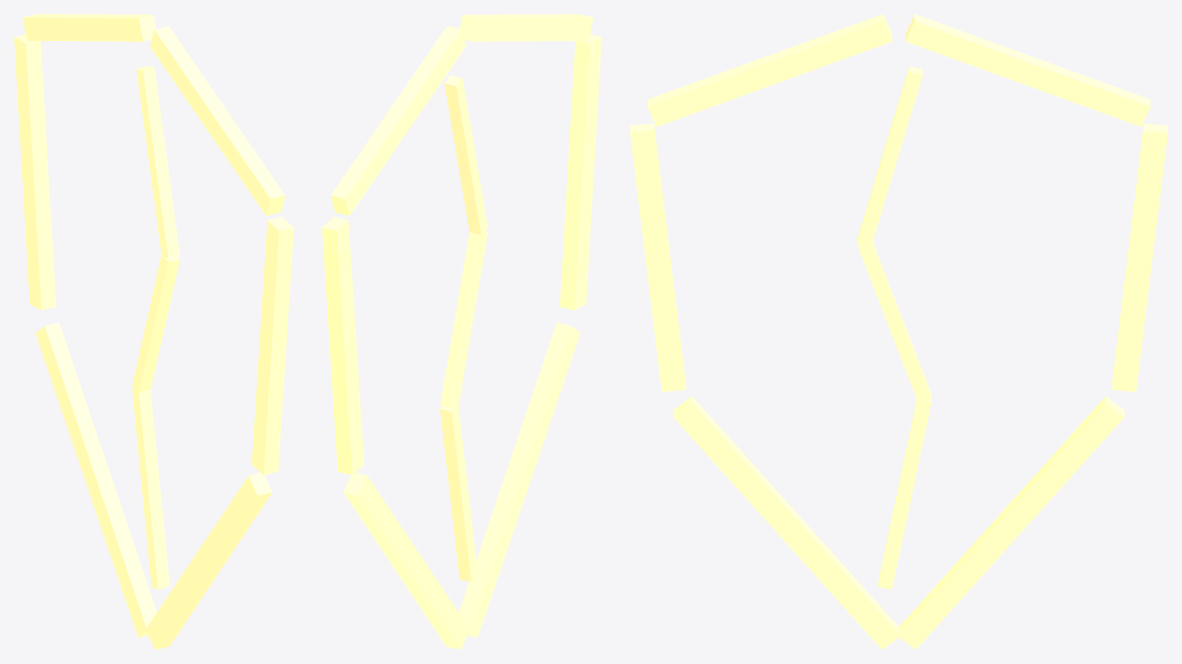
Rendered from SM_SB_Kit_Sigil.fbx.
3 views of the same model, side by side, from view 1: azimuth 30°, elevation 25°; view 2: azimuth 150°, elevation 25°; view 3: azimuth 270°, elevation 25° (orthographic).
Visible parts, largest first — view 1: SM_SB_Kit_Sigil; view 2: SM_SB_Kit_Sigil; view 3: SM_SB_Kit_Sigil.
Part boxes in pixels (x1,y1,x2,y2): SM_SB_Kit_Sigil: (14,14,293,649); SM_SB_Kit_Sigil: (322,14,601,649); SM_SB_Kit_Sigil: (630,14,1167,649).
Bounding box in the file's own units: 10 × 312 × 403.
